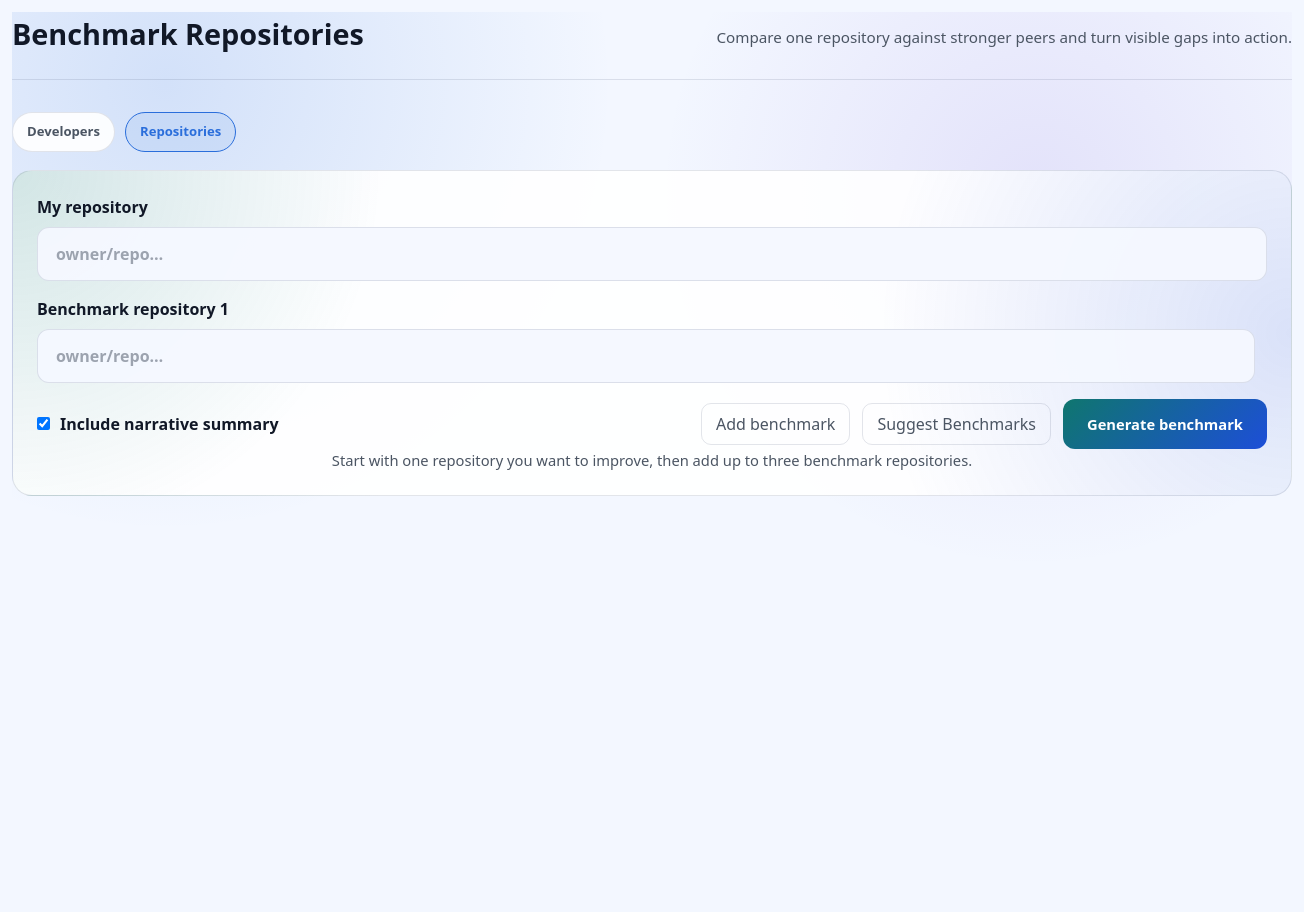
CompareRepos › input validation (Requirement 2.1) › shows error when mine repo is valid but no benchmark repos added
The image size is (1304, 912).
Type "owner/myrepo" into the field with placeholder "owner/repo…" at (652, 254), box top-left (37, 227), bottom-right (1267, 281)
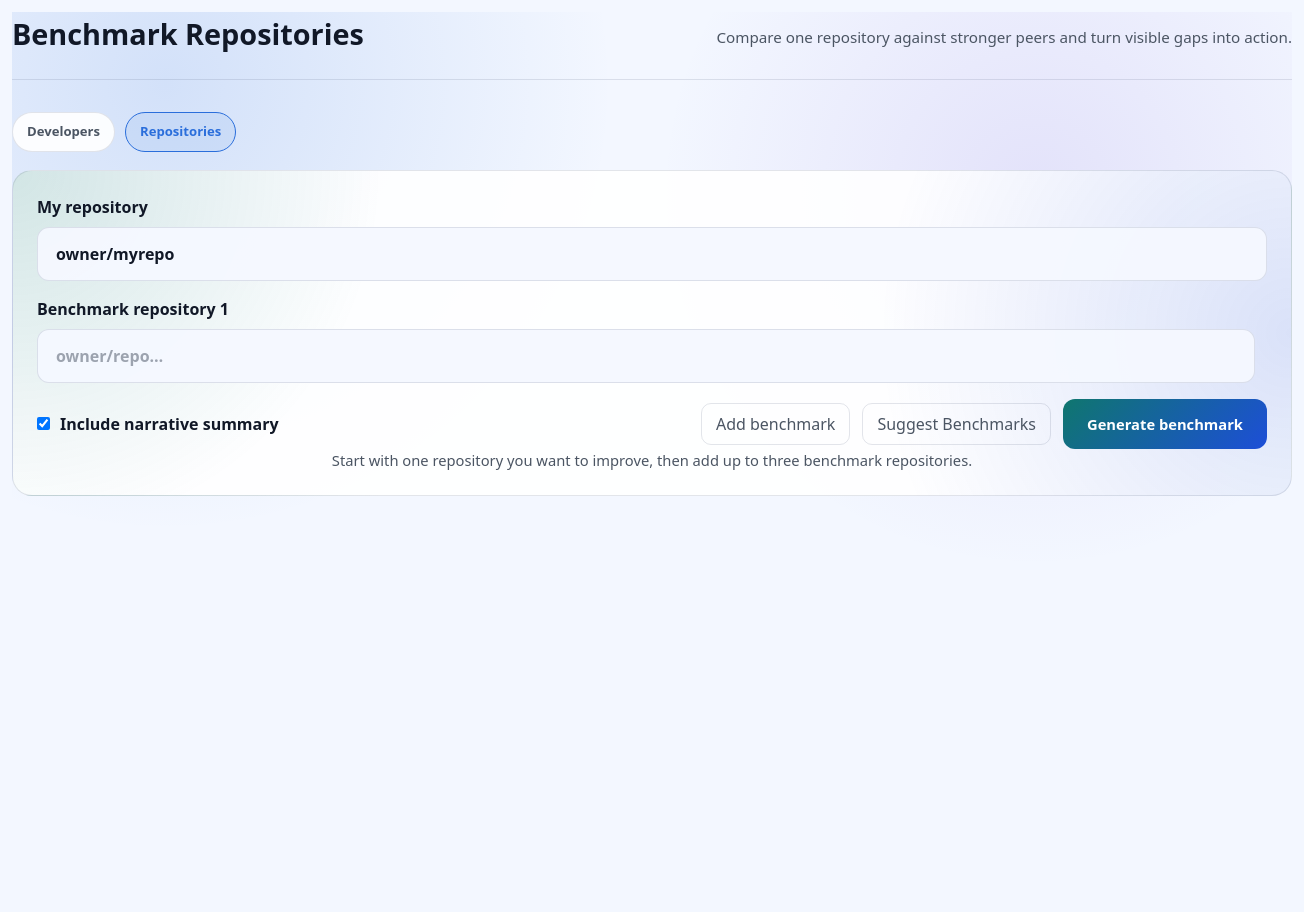
Leave benchmark input empty
Click the button "Generate benchmark" at (1165, 424), box top-left (1063, 399), bottom-right (1267, 449)
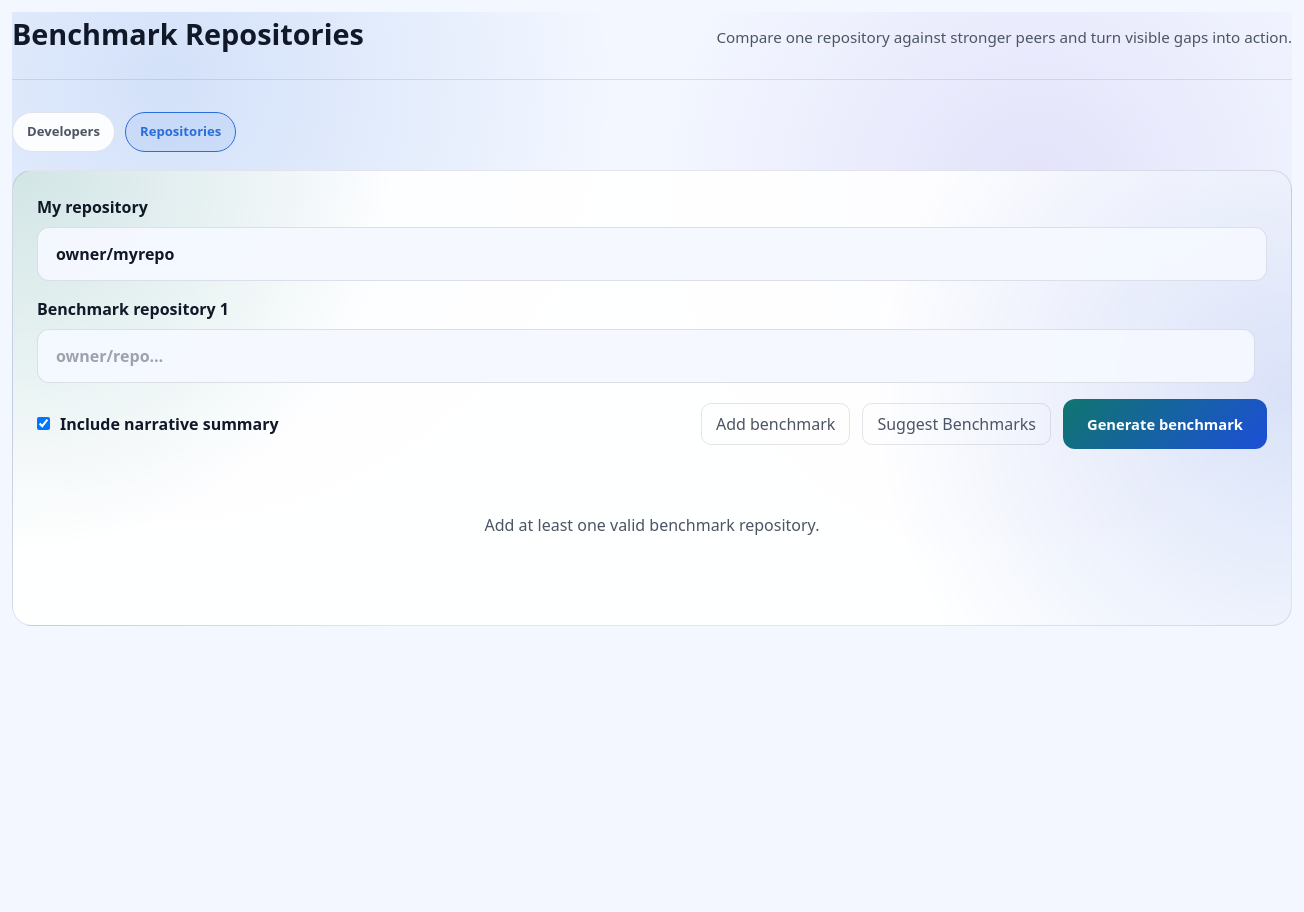
Expected: the text "Add at least one valid benchmark repository." is shown, top-left (484, 514), bottom-right (819, 536)
